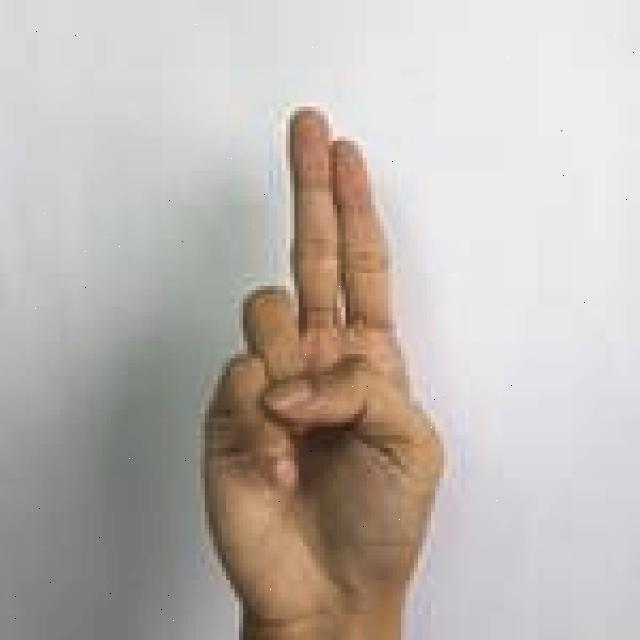U: (199, 100, 449, 640)
